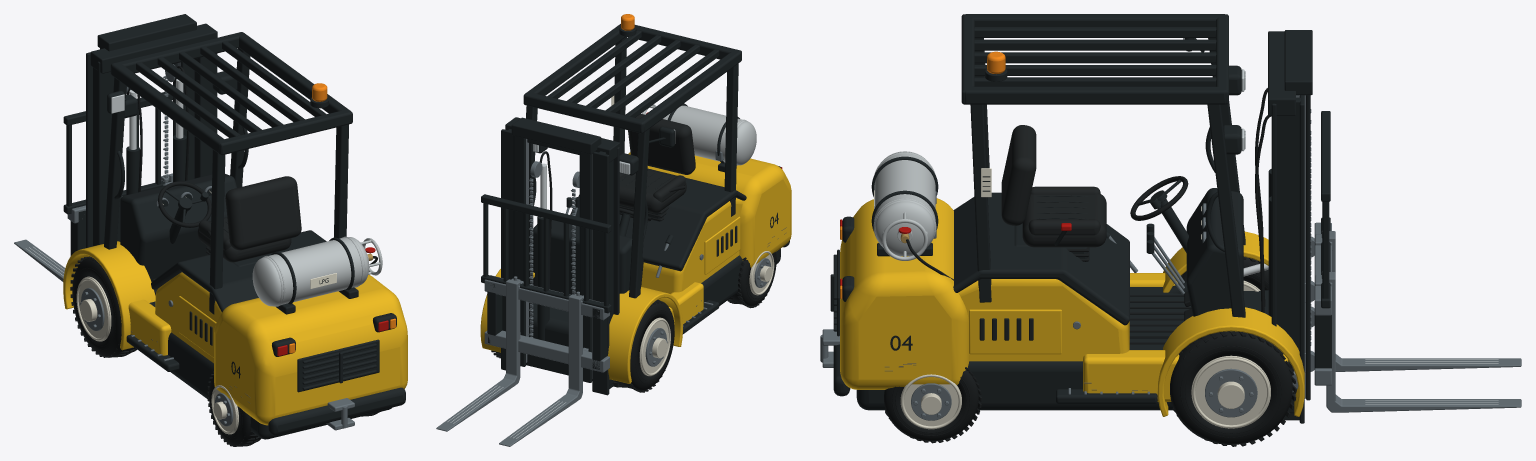
Rendered from warehouse-forklift.fbx.
3 views of the same model, side by side, from view 1: azimuth 30°, elevation 25°; view 2: azimuth 150°, elevation 25°; view 3: azimuth 270°, elevation 25° (orthographic). The views are drawn at different scales.
Visible parts, largest first — view 1: Chassis | black enamel, Chassis | industrial yellow enamel, MastTilt_Pivot | black enamel, Chassis | black vinyl, PropaneBottle | bottle aluminium, InnerMast_Lift | black enamel, FrontWheel_L_Pivot | tyre rubber, ForkCarriage_Lift | black enamel, FrontWheel_L_Pivot | ivory wheel enamel, RearWheel_L_Pivot | tyre rubber, PropaneBottle | black enamel, Chassis | forged steel (+8 smaller); view 2: Chassis | black enamel, Chassis | industrial yellow enamel, MastTilt_Pivot | black enamel, ForkCarriage_Lift | black enamel, InnerMast_Lift | black enamel, Chassis | black vinyl, ForkCarriage_Lift | forged steel, PropaneBottle | bottle aluminium, Fork_Right | forged steel, Fork_Left | forged steel, FrontWheel_L_Pivot | tyre rubber, MastTilt_Pivot | forged steel (+6 smaller); view 3: Chassis | black enamel, Chassis | industrial yellow enamel, MastTilt_Pivot | black enamel, Chassis | black vinyl, FrontWheel_R_Pivot | tyre rubber, PropaneBottle | bottle aluminium, InnerMast_Lift | black enamel, FrontWheel_R_Pivot | ivory wheel enamel, Fork_Right | forged steel, ForkCarriage_Lift | black enamel, RearWheel_R_Pivot | tyre rubber, Fork_Left | forged steel (+9 smaller).
Boxes of the visible parts, <box> form: Chassis | black enamel: <box>104,32,405,439</box>; Chassis | industrial yellow enamel: <box>63,241,407,425</box>; MastTilt_Pivot | black enamel: <box>86,23,217,247</box>; Chassis | black vinyl: <box>197,176,301,262</box>; PropaneBottle | bottle aluminium: <box>252,236,382,306</box>; InnerMast_Lift | black enamel: <box>97,14,196,241</box>; FrontWheel_L_Pivot | tyre rubber: <box>70,256,136,357</box>; ForkCarriage_Lift | black enamel: <box>63,92,172,255</box>; FrontWheel_L_Pivot | ivory wheel enamel: <box>76,276,111,341</box>; RearWheel_L_Pivot | tyre rubber: <box>207,371,261,446</box>; PropaneBottle | black enamel: <box>271,237,358,314</box>; Chassis | forged steel: <box>131,186,354,430</box>; Chassis | black enamel: <box>523,24,789,346</box>; Chassis | industrial yellow enamel: <box>480,152,791,383</box>; MastTilt_Pivot | black enamel: <box>501,117,619,395</box>; ForkCarriage_Lift | black enamel: <box>481,194,611,369</box>; InnerMast_Lift | black enamel: <box>511,117,601,382</box>; Chassis | black vinyl: <box>619,114,695,213</box>; ForkCarriage_Lift | forged steel: <box>484,275,609,372</box>; PropaneBottle | bottle aluminium: <box>642,104,756,165</box>; Fork_Right | forged steel: <box>436,276,523,431</box>; Fork_Left | forged steel: <box>499,291,583,446</box>; FrontWheel_L_Pivot | tyre rubber: <box>613,299,674,392</box>; MastTilt_Pivot | forged steel: <box>528,161,579,337</box>; Chassis | black enamel: <box>830,14,1268,410</box>; Chassis | industrial yellow enamel: <box>840,198,1304,416</box>; MastTilt_Pivot | black enamel: <box>1268,31,1304,423</box>; Chassis | black vinyl: <box>1001,125,1106,247</box>; FrontWheel_R_Pivot | tyre rubber: <box>1170,331,1296,446</box>; PropaneBottle | bottle aluminium: <box>873,151,936,260</box>; InnerMast_Lift | black enamel: <box>1284,30,1312,400</box>; FrontWheel_R_Pivot | ivory wheel enamel: <box>1191,355,1270,428</box>; Fork_Right | forged steel: <box>1315,271,1521,412</box>; ForkCarriage_Lift | black enamel: <box>1314,111,1331,368</box>; RearWheel_R_Pivot | tyre rubber: <box>884,367,981,443</box>; Fork_Left | forged steel: <box>1315,231,1521,371</box>.
Bounding box in the file's own units: 141 × 235 × 400.
